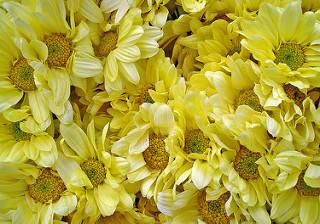sunflower: (201, 60, 288, 145), (14, 0, 97, 86), (240, 3, 320, 88), (71, 0, 151, 83), (1, 148, 88, 224), (0, 19, 70, 109), (162, 161, 259, 224), (58, 121, 125, 212), (122, 105, 187, 177), (270, 151, 320, 224), (0, 102, 56, 162)
